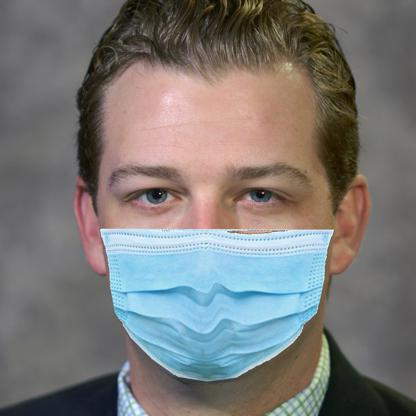mask: (98, 224, 336, 382)
